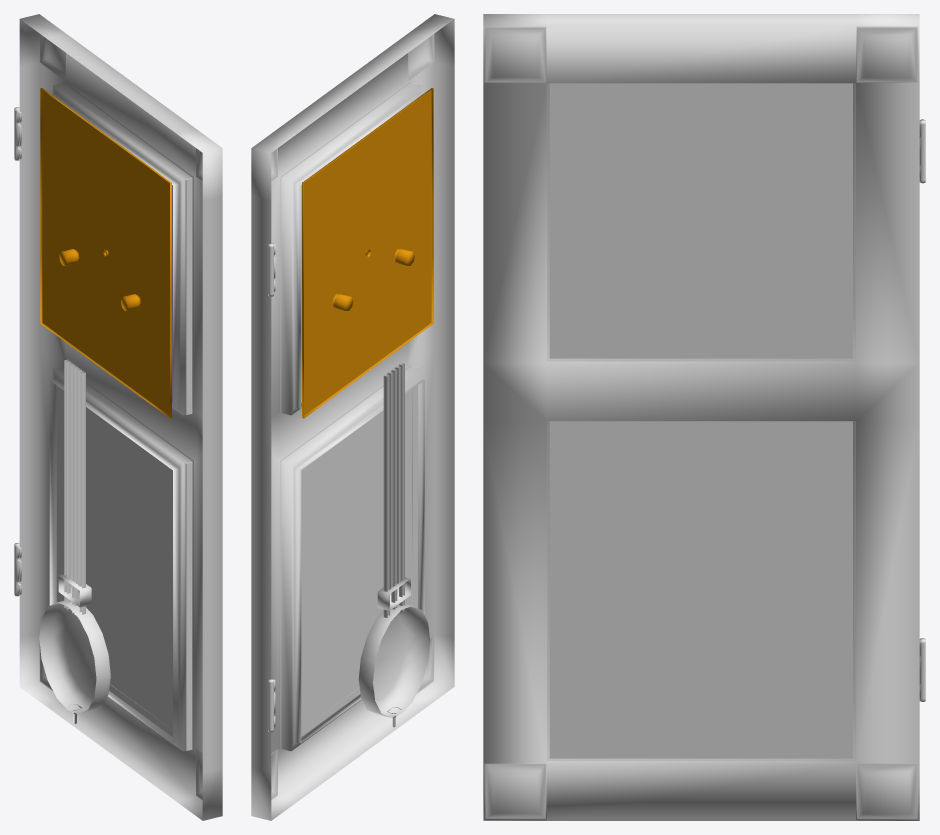
The model's file is clock inside.fbx.
3 renders of one model, left to right at view 1: azimuth 30°, elevation 25°; view 2: azimuth 150°, elevation 25°; view 3: azimuth 270°, elevation 25°, orthographic. The views are drawn at different scales.
Parts seen in each view (by area): view 1: Door, Clock_face, Glass, Pendulum; view 2: Door, Clock_face, Glass, Pendulum; view 3: Glass, Door.
Part boxes in pixels (box(x1,y1,x2,y2)): Door: box(14, 14, 222, 820); Clock_face: box(40, 88, 171, 418); Glass: box(56, 178, 192, 750); Pendulum: box(39, 359, 110, 723); Door: box(251, 14, 454, 820); Clock_face: box(302, 88, 433, 418); Glass: box(301, 83, 418, 736); Pendulum: box(358, 363, 430, 727); Glass: box(549, 83, 852, 758); Door: box(483, 14, 925, 820).
Size of the model in its own units: 6.4 by 62.72 by 31.63.
